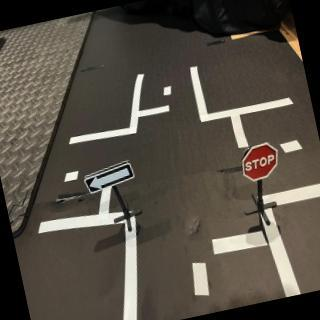sign_oneway_left: (81, 158, 141, 198)
